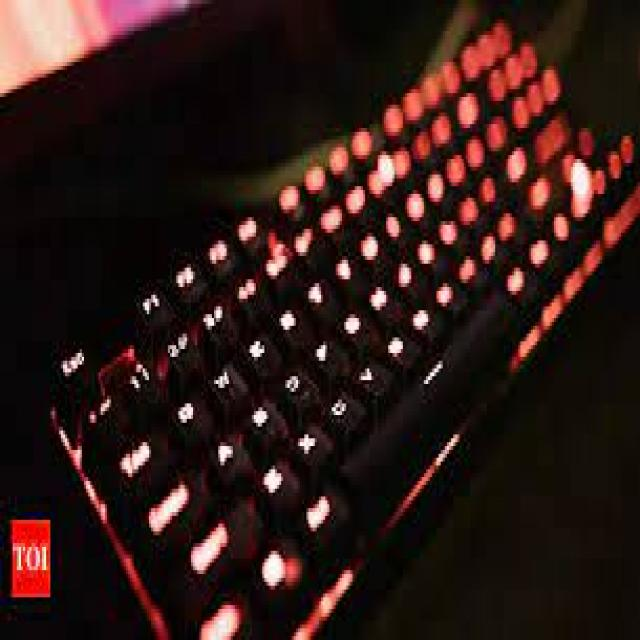others: (2, 4, 640, 632)
